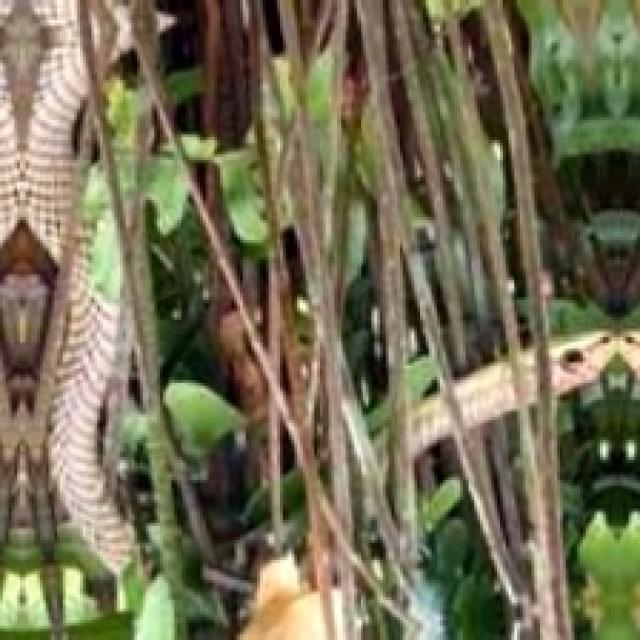paradise tree snake: (0, 0, 137, 637)
